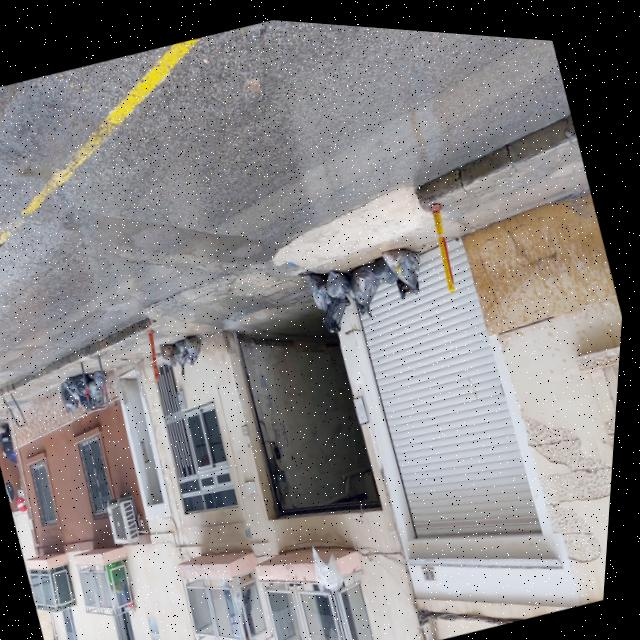Mixed Waste -Black Bag-: (381, 234, 435, 296), (347, 255, 394, 316), (308, 264, 343, 312), (322, 260, 358, 299), (371, 247, 405, 285), (347, 275, 373, 313), (187, 329, 215, 364), (62, 378, 88, 414), (398, 267, 428, 297), (174, 340, 197, 377), (162, 338, 187, 370), (76, 371, 101, 398), (89, 376, 112, 404), (67, 377, 90, 403), (186, 344, 205, 365), (97, 367, 115, 389), (83, 389, 101, 411), (178, 335, 194, 351), (70, 373, 85, 390)
Other: (319, 285, 364, 332)
